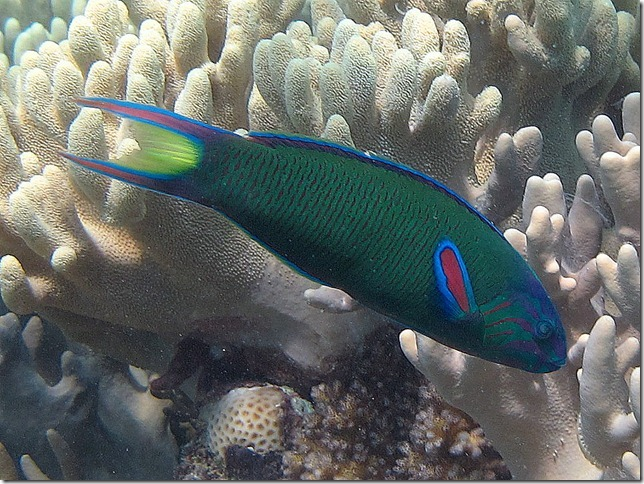fish: (56, 98, 569, 375)
